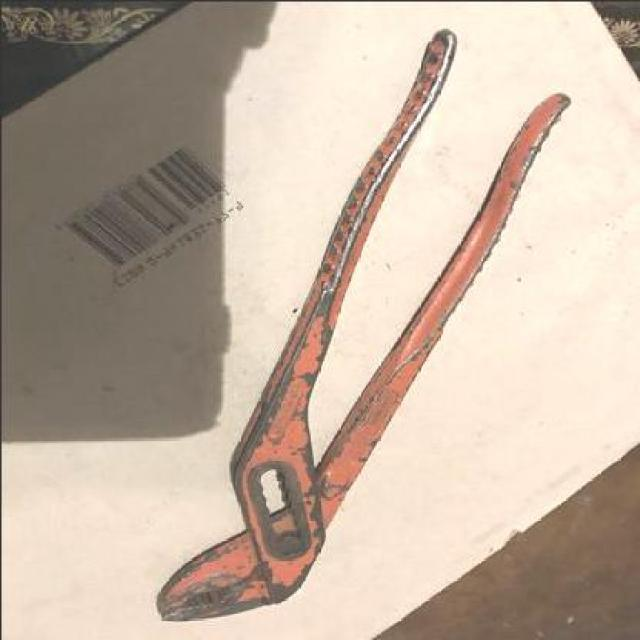pliers: (156, 26, 570, 623)
